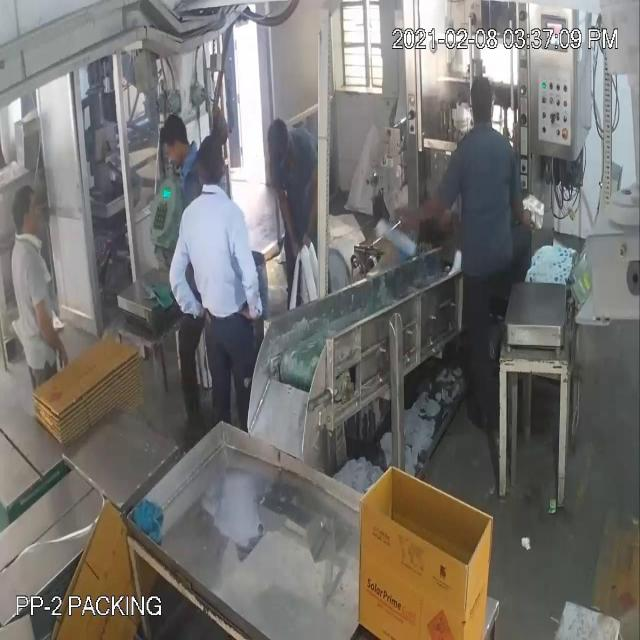No_Gloves: (19, 38, 426, 333)
